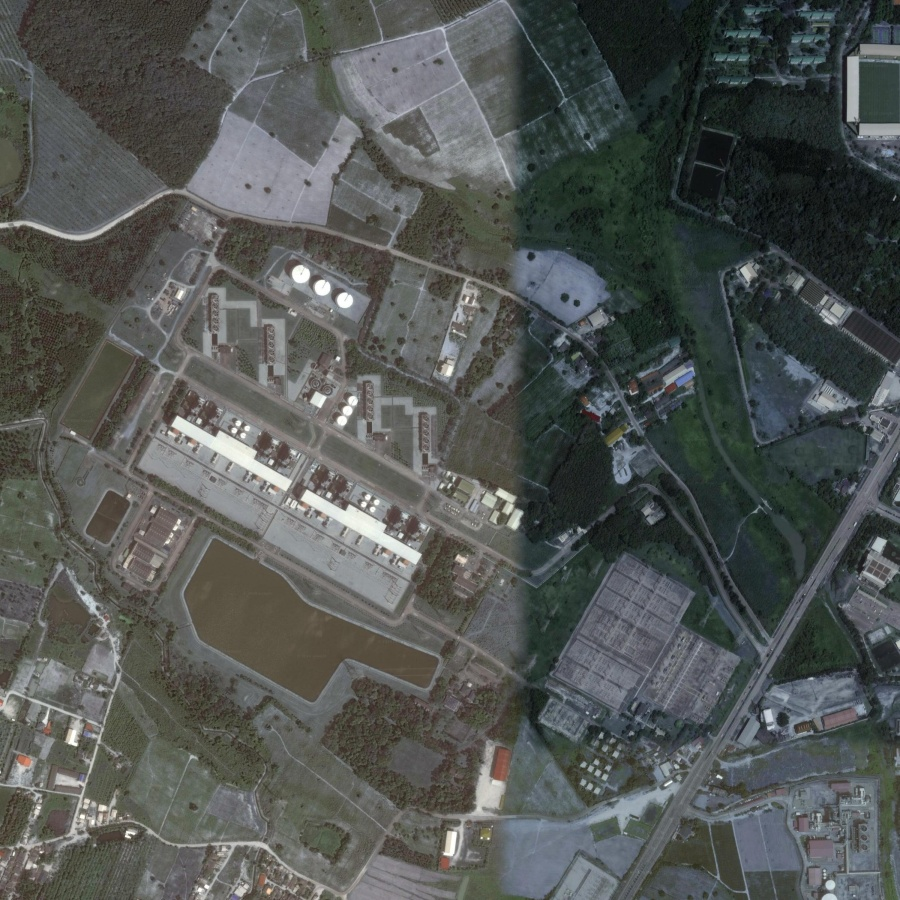PowerPlant: (88, 250, 542, 709)
